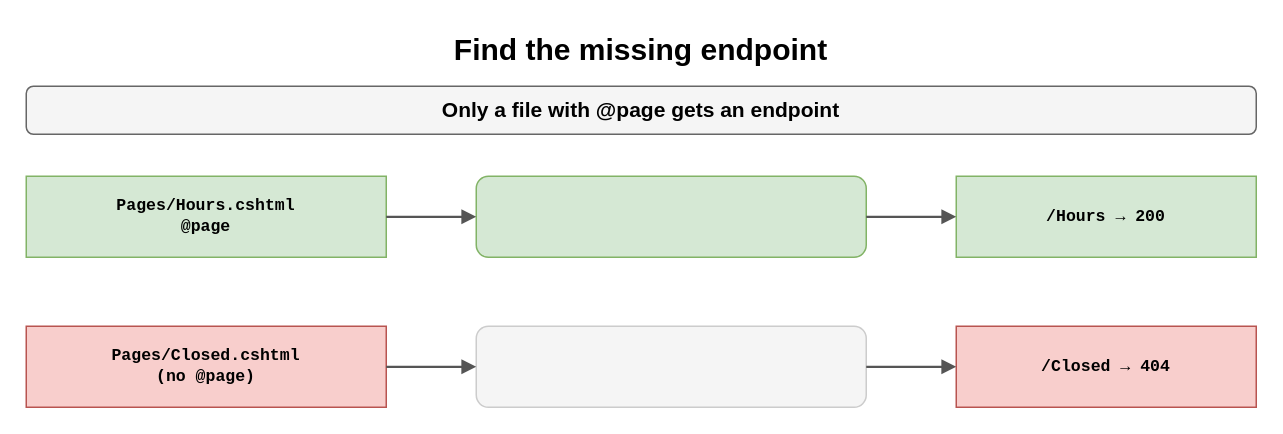
This 1283x434 diagram has some shape labels left out. The shapes that lost their labels are listed below. From the top down, each one's centre as x and y in pixels, then its label:
At (670,216): "MapRazorPages endpoint".
At (670,366): "compiled as a view (partial or layout use) no endpoint".
